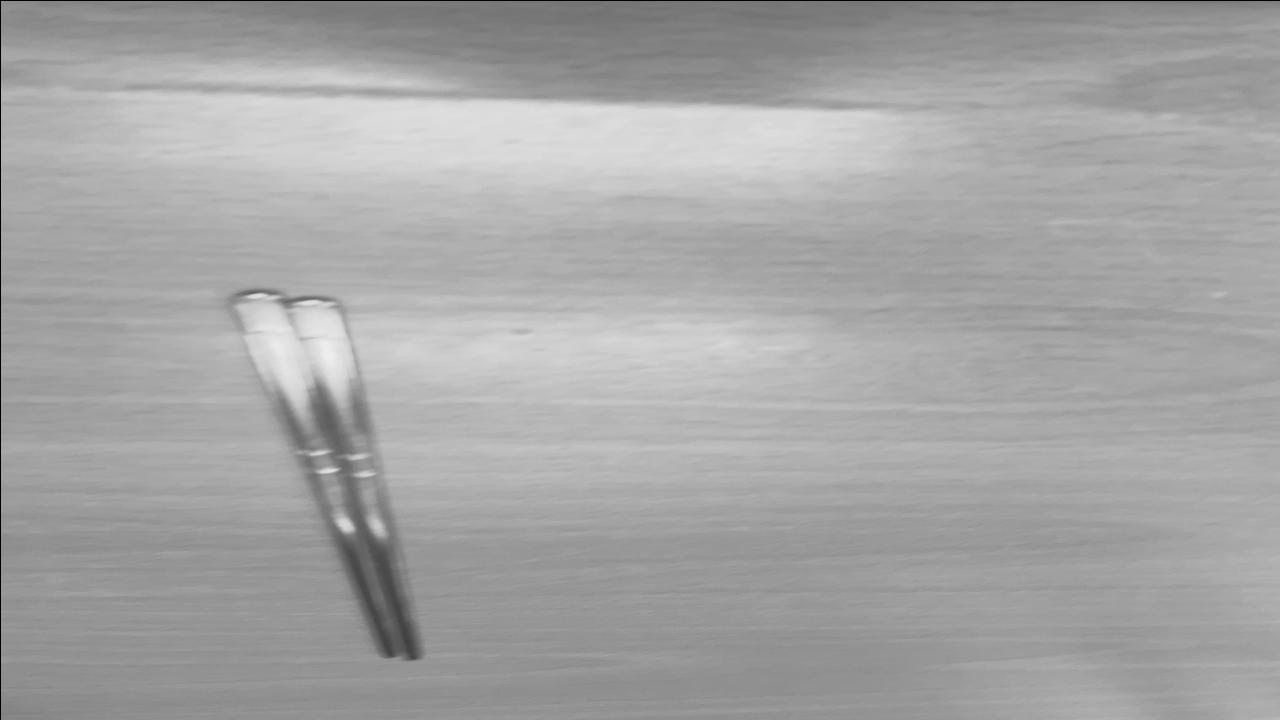chopstick: (224, 288, 425, 660)
